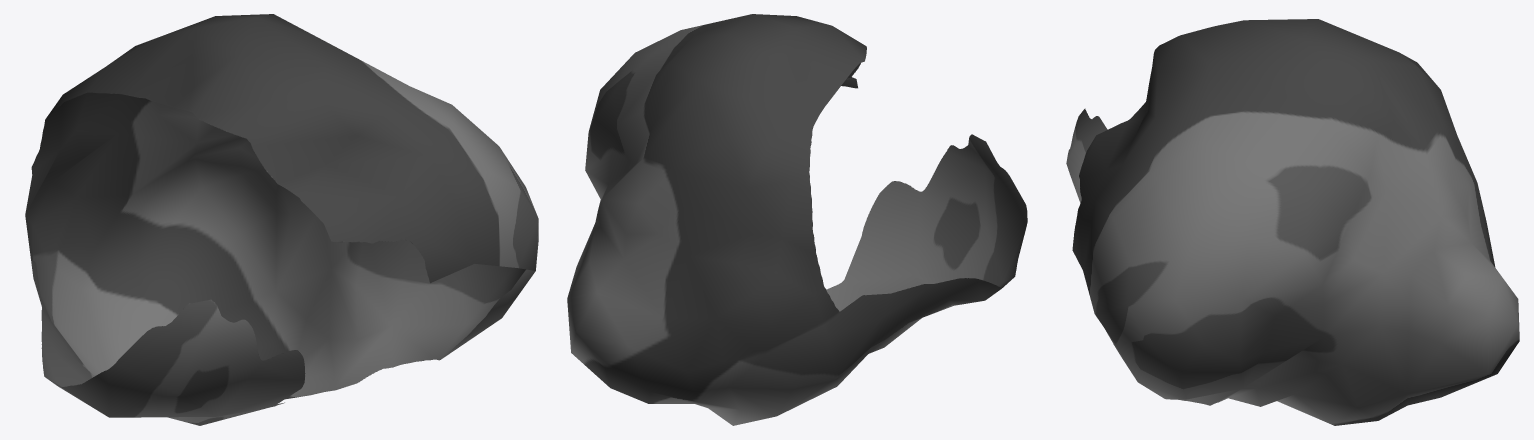
The model's file is ore.OBJ.
3 views of the same model, side by side, from view 1: azimuth 30°, elevation 25°; view 2: azimuth 150°, elevation 25°; view 3: azimuth 270°, elevation 25° (orthographic). The views are drawn at different scales.
Visible parts, largest first — view 1: Group65395; view 2: Group65395; view 3: Group65395.
Boxes of the visible parts, x1,y1,x2,y2 form: Group65395: (25,14,538,425); Group65395: (567,14,1027,425); Group65395: (1066,19,1519,425).
Bounding box in the file's own units: 2.81 × 2.25 × 2.38.
